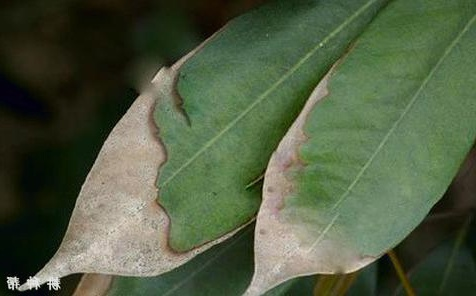Frost_Blight: (14, 36, 224, 288), (241, 53, 377, 292)
